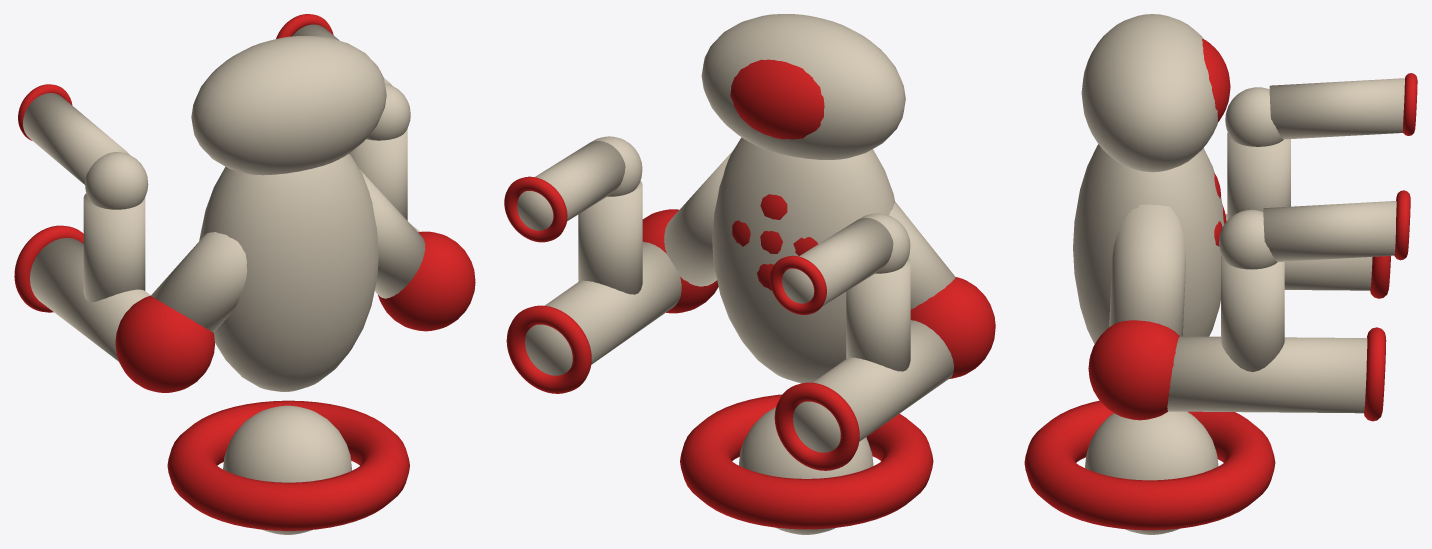
Rendered from Inferno.fbx.
3 renders of one model, left to right at view 1: azimuth 30°, elevation 25°; view 2: azimuth 150°, elevation 25°; view 3: azimuth 270°, elevation 25°, orthographic. The views are drawn at different scales.
Visible parts, largest first — view 1: Sphere.001, Sphere.002, Torus.004, Sphere, Sphere.007, Cylinder.006, Cylinder.007, Sphere.004, Cylinder.005, Cylinder.004, Cylinder, Sphere.006 (+5 smaller); view 2: Sphere.001, Torus.004, Sphere.002, Cylinder.006, Cylinder.001, Sphere.003, Cylinder.002, Cylinder.005, Cylinder.004, Cylinder.003, Sphere.007, Cylinder (+9 smaller); view 3: Torus.004, Sphere.002, Sphere.001, Cylinder.001, Cylinder, Sphere, Cylinder.004, Sphere.004, Cylinder.003, Cylinder.002, Cylinder.005, Cylinder.006 (+7 smaller).
Part boxes in pixels (x1,y1,x2,y2): Sphere.001: [199, 154, 378, 391]; Sphere.002: [191, 36, 386, 175]; Torus.004: [167, 400, 409, 530]; Sphere: [223, 405, 351, 534]; Sphere.007: [115, 295, 214, 392]; Cylinder.006: [30, 238, 150, 361]; Cylinder.007: [151, 232, 247, 332]; Sphere.004: [378, 231, 475, 331]; Cylinder.005: [83, 193, 145, 302]; Cylinder.004: [23, 93, 129, 184]; Cylinder: [359, 169, 425, 298]; Sphere.006: [85, 152, 148, 209]; Sphere.001: [712, 137, 895, 383]; Torus.004: [680, 394, 933, 529]; Sphere.002: [701, 14, 905, 159]; Cylinder.006: [793, 320, 953, 452]; Cylinder.001: [525, 242, 681, 375]; Sphere.003: [730, 59, 824, 139]; Cylinder.002: [578, 181, 642, 294]; Cylinder.005: [846, 258, 910, 371]; Cylinder.004: [782, 218, 893, 305]; Cylinder.003: [517, 141, 625, 230]; Sphere.007: [910, 277, 995, 378]; Cylinder: [664, 150, 733, 286]; Torus.004: [1024, 400, 1275, 530]; Sphere.002: [1081, 14, 1217, 172]; Sphere.001: [1073, 144, 1224, 344]; Cylinder.001: [1167, 336, 1367, 413]; Cylinder: [1109, 204, 1185, 336]; Sphere: [1085, 411, 1218, 534]; Cylinder.004: [1269, 78, 1404, 139]; Sphere.004: [1088, 320, 1179, 420]; Cylinder.003: [1263, 201, 1396, 261]; Cylinder.002: [1221, 255, 1284, 371]; Cylinder.005: [1227, 132, 1290, 219]; Cylinder.006: [1225, 214, 1372, 290].
Size of the model in its own units: 2.65 by 3.52 by 2.51.
